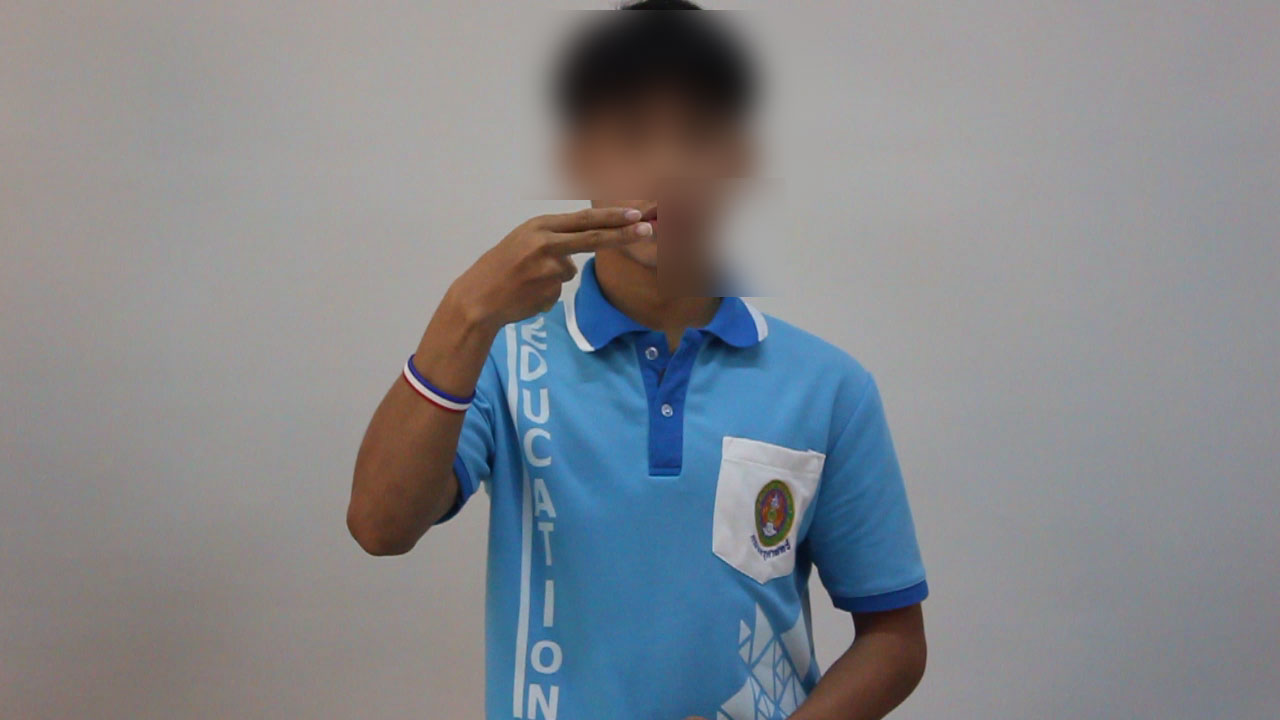hor: (444, 199, 673, 334)
